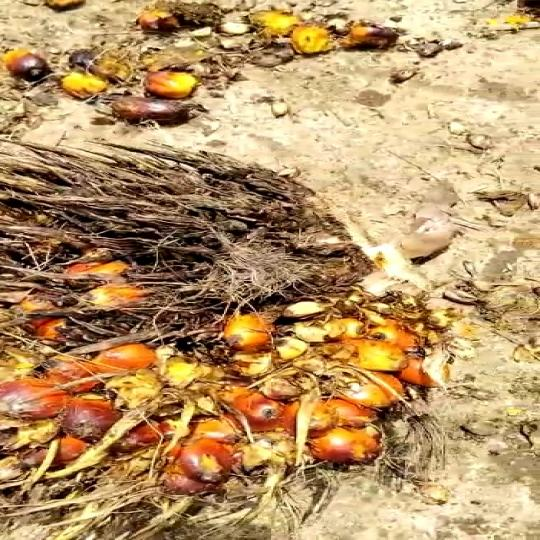terlalu masak: (0, 117, 460, 540)
